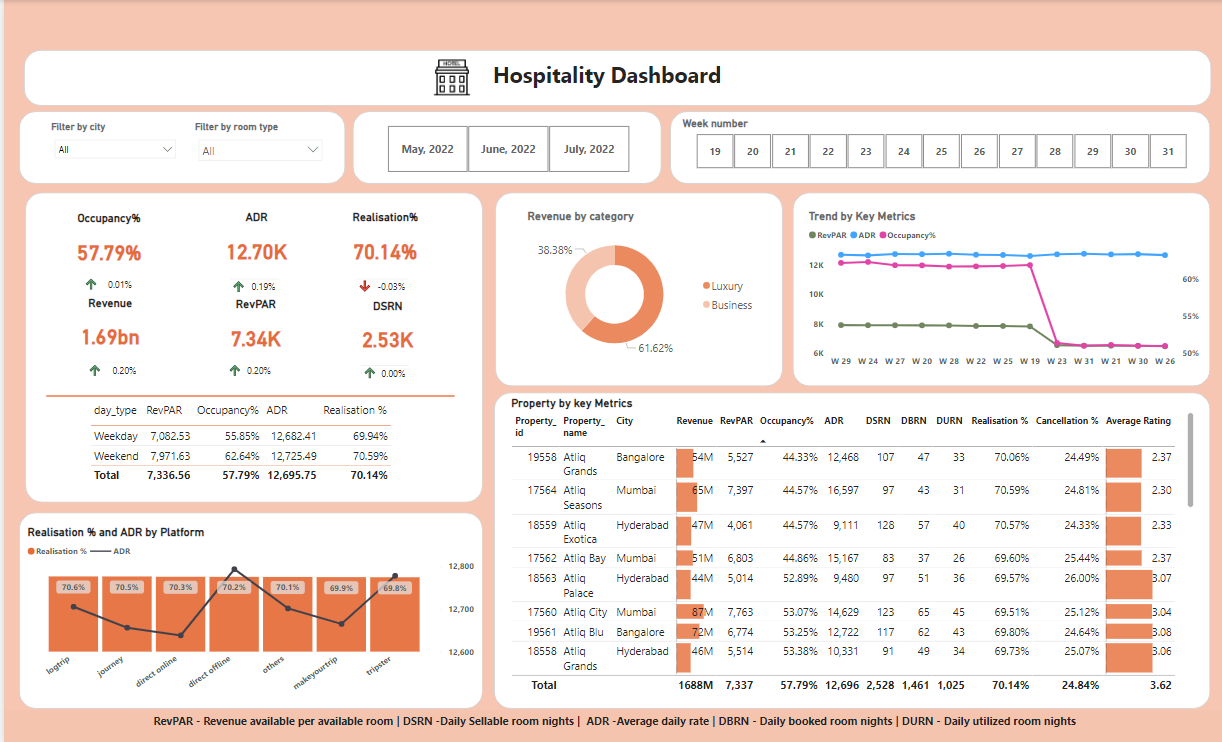

The dashboard page shown, as its layout file describes it:
{"tool":"powerbi","page":{"name":"Dashboard","canvas":[1800,1100],"ordinal":0},"visuals":[{"type":"shape","box":[29.9,72.8,1749.9,82.2],"z":0},{"type":"shape","box":[722.3,578.6,1055.8,466.2],"z":1000},{"type":"shape","box":[1162.6,283.8,615.4,285.6],"z":2000},{"type":"shape","box":[724.1,283.8,423.8,285.6],"z":3000},{"type":"shape","box":[22.1,755.4,683.6,289.3],"z":4000},{"type":"shape","box":[31.3,283.8,674.4,457],"z":5000},{"type":"shape","box":[982.1,164,796,106.9],"z":6000},{"type":"shape","box":[514.1,164,455.1,106.9],"z":7000},{"type":"shape","box":[22.1,164,480.9,106.9],"z":8000},{"type":"tableEx","title":"Property by key Metrics","fields":{"Values":["dim_hotels.property_id","dim_hotels.property_name","dim_hotels.city","Key_measures (2).Revenue","Key_measures (2).RevPAR","Key_measures (2).Occupancy%","Key_measures (2).ADR","Key_measures (2).DSRN","Key_measures (2).DBRN","Key_measures (2).DURN","Key_measures (2).Realisation %","Key_measures (2).Cancellation %"]},"box":[743.3,584.6,1016,444.5],"z":9000},{"type":"slicer","title":"Month","fields":{"Values":["dim_date.mmm yy"]},"box":[539.9,178.7,405.4,81.1],"z":10000},{"type":"slicer","title":"Filter by city","fields":{"Values":["dim_hotels.city"]},"box":[64.5,178.7,199,75.5],"z":11000},{"type":"slicer","title":"Filter by room type","fields":{"Values":["dim_rooms.room_class"]},"box":[276.4,178.7,202.7,75.5],"z":12000},{"type":"slicer","title":"Week number","fields":{"Values":["dim_date.wn"]},"box":[995,173.2,772,81.1],"z":13000},{"type":"donutChart","fields":{"Category":["dim_hotels.category"],"Y":["Key_measures (2).Revenue"]},"box":[765.7,308.1,351.1,233.4],"z":14000},{"type":"lineChart","title":"Trend by Key Metrics","fields":{"Category":["dim_date.week no"],"Y":["Key_measures (2).RevPAR","Key_measures (2).ADR"],"Y2":["Key_measures (2).Occupancy%"]},"box":[1180.3,308.1,586.4,242.8],"z":15000},{"type":"lineStackedColumnComboChart","title":"Realisation % and ADR by Platform","fields":{"Category":["fact_bookings.booking_platform"],"Y":["Key_measures (2).Realisation %"],"Y2":["Key_measures (2).ADR"]},"box":[29.9,773.2,668.6,255.9],"z":16000},{"type":"tableEx","fields":{"Values":["Key_measures (2).Revenue WOW change %"]},"box":[113.9,506.1,100.8,56],"z":17000},{"type":"card","title":"Revenue","fields":{"Values":["Key_measures (2).Revenue"]},"box":[81.5,436.7,151.1,97.7],"z":18000},{"type":"tableEx","fields":{"Values":["Key_measures (2).Revpar WOW change %"]},"box":[321.2,506.1,93.4,56],"z":19000},{"type":"card","title":"RevPAR","fields":{"Values":["Key_measures (2).RevPAR"]},"box":[294.8,438.5,152.9,97.7],"z":20000},{"type":"tableEx","fields":{"Values":["Key_measures (2).DSRN WOW change %"]},"box":[519.6,510.4,92.1,55.3],"z":21000},{"type":"card","title":"DSRN","fields":{"Values":["Key_measures (2).DSRN"]},"box":[490.1,440.4,151.1,97.7],"z":22000},{"type":"tableEx","fields":{"Values":["Key_measures (2).Occupancy WoW change %"]},"box":[108.2,379.6,100,56],"z":23000},{"type":"card","title":"Occupancy%","fields":{"Values":["Key_measures (2).Occupancy%"]},"box":[79.7,311.4,151.1,99.5],"z":24000},{"type":"tableEx","fields":{"Values":["Key_measures (2).ADR WoW change %"]},"box":[325.6,383.2,94,55.3],"z":25000},{"type":"card","title":"ADR","fields":{"Values":["Key_measures (2).ADR"]},"box":[297.1,309.5,151,99.5],"z":26000},{"type":"tableEx","fields":{"Values":["Key_measures (2).Realisation WoW change %"]},"box":[512.7,383.2,99.5,55.3],"z":27000},{"type":"card","title":"Realisation%","fields":{"Values":["Key_measures (2).Realisation %"]},"box":[486.9,309.5,151.1,99.5],"z":28000},{"type":"tableEx","fields":{"Values":["dim_date.day_type","Key_measures (2).RevPAR","Key_measures (2).Occupancy%","Key_measures (2).ADR","Key_measures (2).Realisation %"]},"box":[121.6,584.1,495.6,149.2],"z":29000},{"type":"shape","box":[63.5,541.6,601.4,84],"z":30000},{"type":"textbox","box":[610.7,82.2,549.1,63.5],"z":31000},{"type":"image","box":[598.8,82.9,123.5,62.6],"z":32000},{"type":"textbox","box":[0,1045.8,1800.3,54.2],"z":33000}]}

Visuals, with their boxes in screenshot pixels (x1, y1, x2, y2), scaled from the page's 1800x1100 canvas onto the 1222x742 screenshot:
shape: l=20, t=49, r=1208, b=105
shape: l=490, t=390, r=1207, b=705
shape: l=789, t=191, r=1207, b=384
shape: l=492, t=191, r=779, b=384
shape: l=15, t=510, r=479, b=705
shape: l=21, t=191, r=479, b=500
shape: l=667, t=111, r=1207, b=183
shape: l=349, t=111, r=658, b=183
shape: l=15, t=111, r=341, b=183
"Property by key Metrics" tableEx: l=505, t=394, r=1194, b=694
"Month" slicer: l=367, t=121, r=642, b=175
"Filter by city" slicer: l=44, t=121, r=179, b=171
"Filter by room type" slicer: l=188, t=121, r=325, b=171
"Week number" slicer: l=675, t=117, r=1200, b=172
donutChart - dim_hotels.category x Key_measures (2).Revenue: l=520, t=208, r=758, b=365
"Trend by Key Metrics" lineChart: l=801, t=208, r=1199, b=372
"Realisation % and ADR by Platform" lineStackedColumnComboChart: l=20, t=522, r=474, b=694
tableEx - Key_measures (2).Revenue WOW change %: l=77, t=341, r=146, b=379
"Revenue" card: l=55, t=295, r=158, b=360
tableEx - Key_measures (2).Revpar WOW change %: l=218, t=341, r=281, b=379
"RevPAR" card: l=200, t=296, r=304, b=362
tableEx - Key_measures (2).DSRN WOW change %: l=353, t=344, r=415, b=382
"DSRN" card: l=333, t=297, r=435, b=363
tableEx - Key_measures (2).Occupancy WoW change %: l=73, t=256, r=141, b=294
"Occupancy%" card: l=54, t=210, r=157, b=277
tableEx - Key_measures (2).ADR WoW change %: l=221, t=258, r=285, b=296
"ADR" card: l=202, t=209, r=304, b=276
tableEx - Key_measures (2).Realisation WoW change %: l=348, t=258, r=416, b=296
"Realisation%" card: l=331, t=209, r=433, b=276
tableEx - dim_date.day_type x Key_measures (2).RevPAR: l=83, t=394, r=419, b=495
shape: l=43, t=365, r=451, b=422
textbox: l=415, t=55, r=787, b=98
image: l=407, t=56, r=490, b=98
textbox: l=0, t=705, r=1221, b=741
